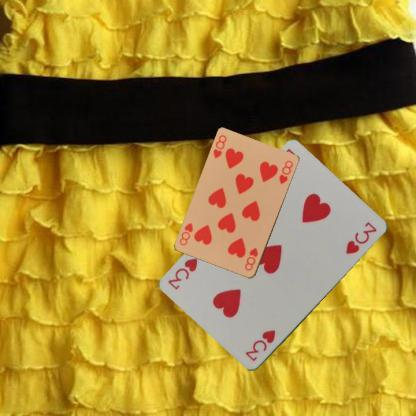3h: (243, 328, 277, 364)
8h: (242, 245, 260, 272), (211, 132, 228, 160)
